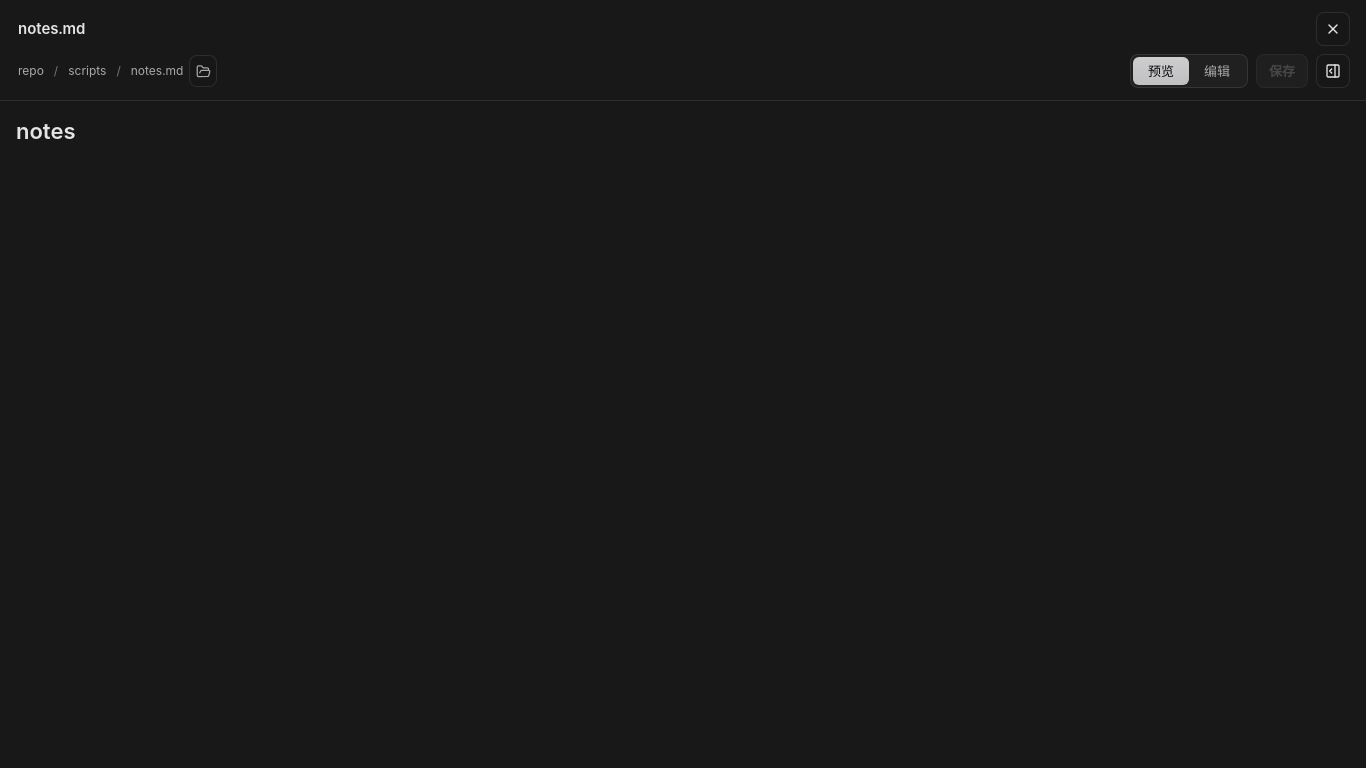
Test case: FileWorkspaceView › 使用单层文件工具栏，避免重复的路径栏和编辑器标题栏
The width and height of the screenshot is (1366, 768).
Check: the heading "notes" is shown, box x1=16 y1=118 x2=76 y2=144
Check: the 1st text "notes.md" is shown, box x1=18 y1=18 x2=86 y2=40
Step 1. Click the button "编辑" → (1217, 71), box x1=1189 y1=57 x2=1245 y2=85
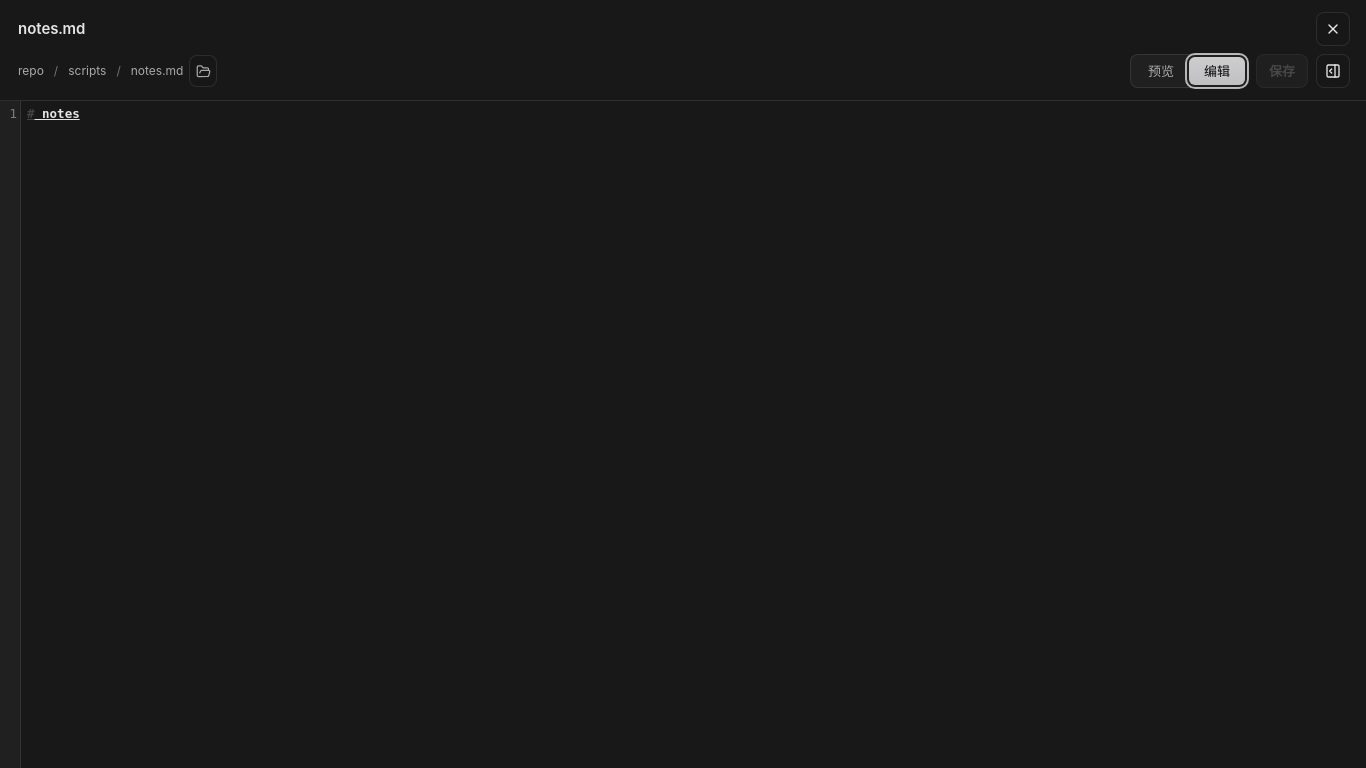
Check: the field named "scripts/notes.md editor" is shown, box x1=27 y1=106 x2=80 y2=121
